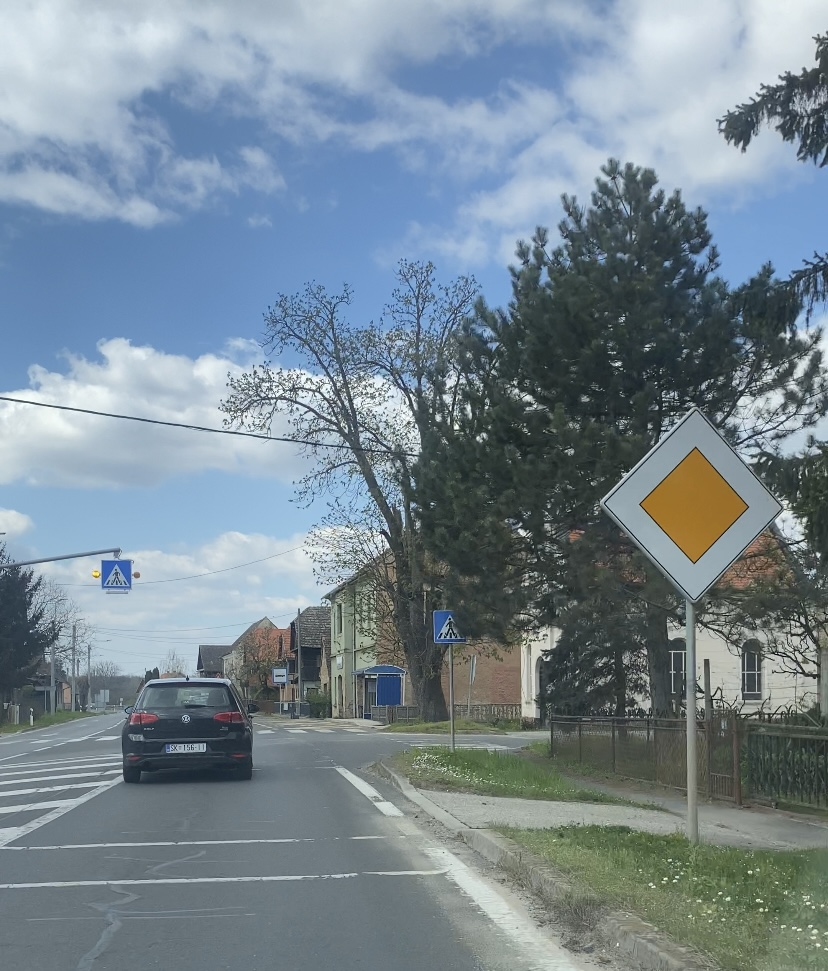Cesta s prednošću prolaska: (599, 406, 785, 603)
Pješački prijelaz: (101, 560, 132, 588)
